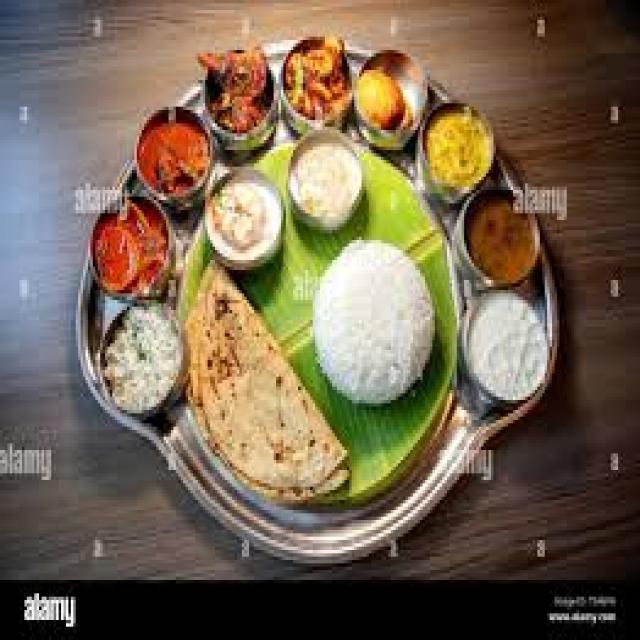rice: (307, 236, 447, 406), (461, 288, 553, 410), (96, 306, 186, 420)
roti: (192, 289, 346, 485)
sambar-rasam: (454, 181, 545, 290)
sweet: (202, 175, 287, 262), (288, 142, 366, 227)
veg-fry: (87, 194, 179, 303), (458, 185, 542, 290)
